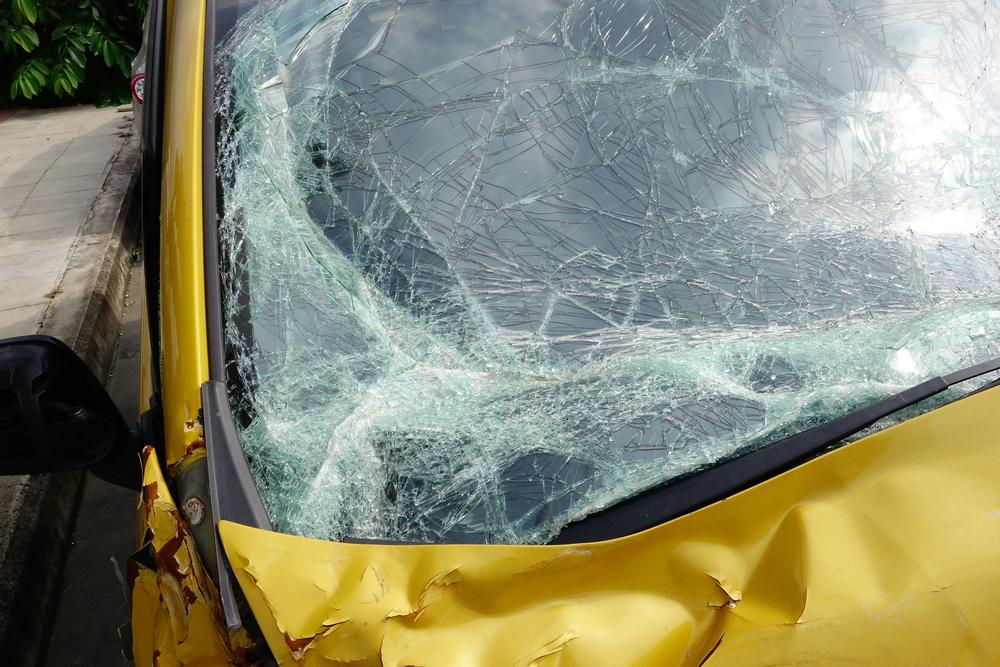dent: (220, 435, 997, 667)
glass shatter: (214, 0, 1000, 547)
